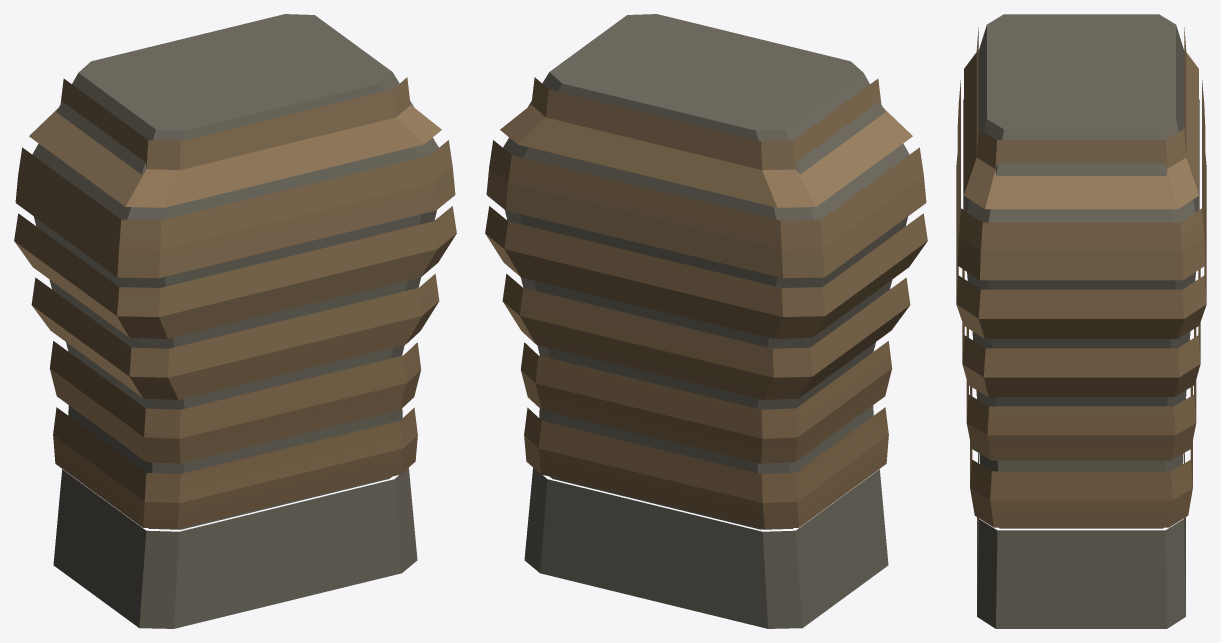
The picture shows the model from 3 angles, left to right: view 1: azimuth 30°, elevation 25°; view 2: azimuth 150°, elevation 25°; view 3: azimuth 270°, elevation 25°; orthographic projection.
Visible parts, largest first — view 1: lamellar_vest; view 2: lamellar_vest; view 3: lamellar_vest.
Part boxes in pixels (x1=…): lamellar_vest: x1=14, y1=14, x2=456, y2=628; lamellar_vest: x1=485, y1=14, x2=927, y2=628; lamellar_vest: x1=956, y1=14, x2=1206, y2=628.
Bounding box in the file's own units: 0.4496 × 0.62 × 0.2878.
